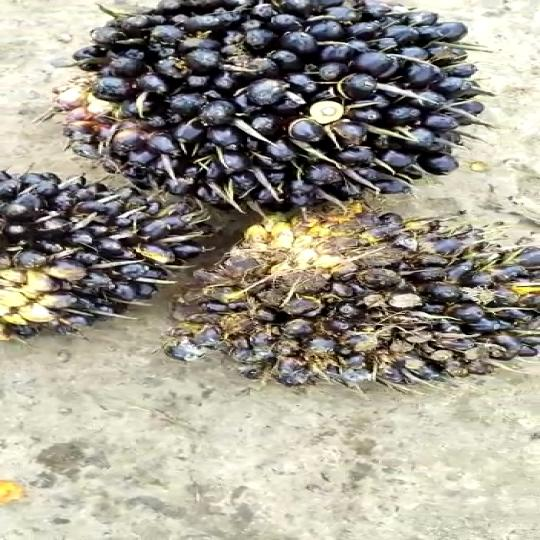mentah: (38, 0, 524, 213), (160, 213, 540, 402), (0, 162, 209, 350)
